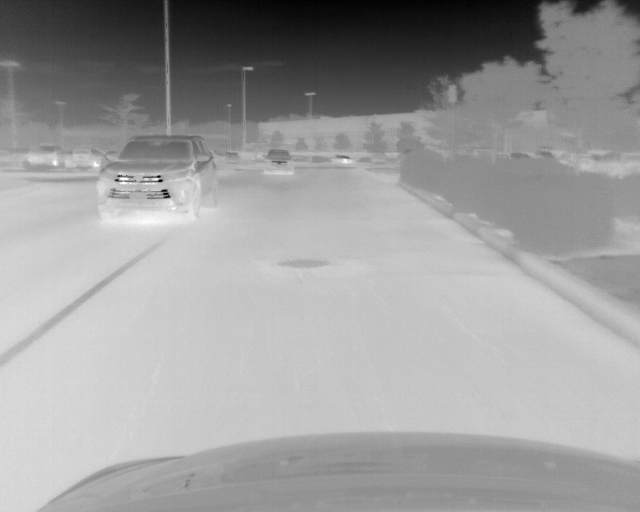car: (96, 135, 219, 222), (6, 144, 66, 172), (262, 148, 293, 177), (70, 147, 97, 169), (224, 151, 239, 162)
